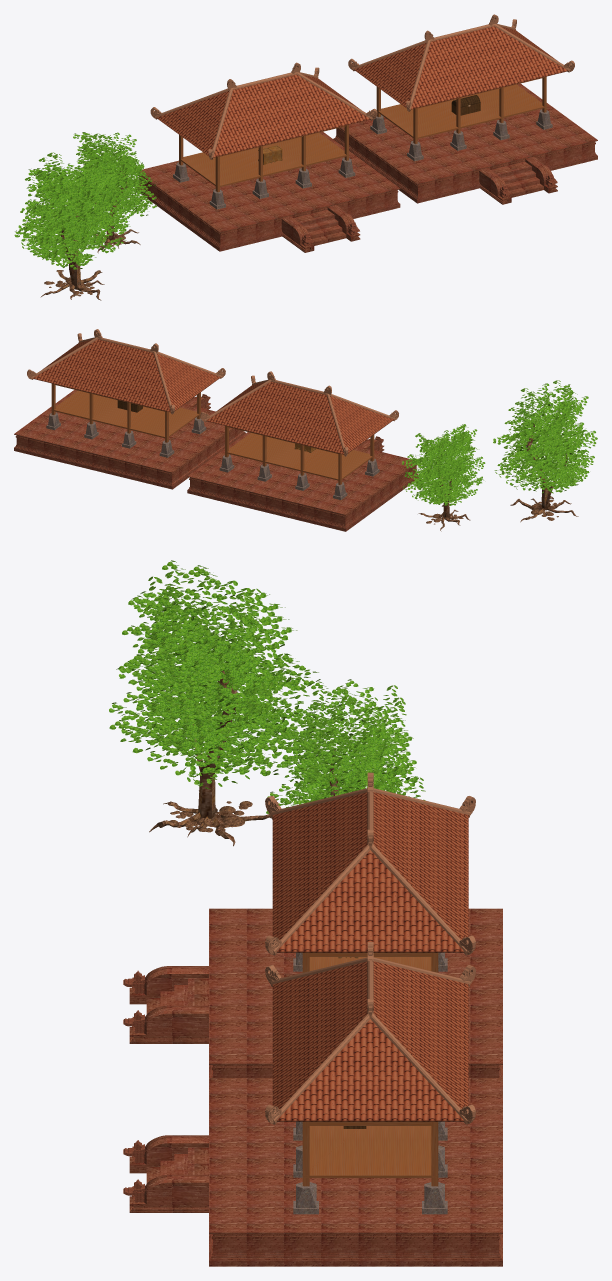
File: seat2.glb
3 views of the same model, one above another, from view 1: azimuth 30°, elevation 25°; view 2: azimuth 150°, elevation 25°; view 3: azimuth 270°, elevation 25° (orthographic). The views are drawn at different scales.
Visible parts, largest first — view 1: seat2; view 2: seat2; view 3: seat2.
Boxes of the visible parts, left/top/right/bottom form: seat2: left=14, top=14, right=597, bottom=300; seat2: left=14, top=329, right=597, bottom=531; seat2: left=109, top=560, right=502, bottom=1266.
Size of the model in its own units: 3105 by 707 by 1055.
13 materials, 10 textured.
